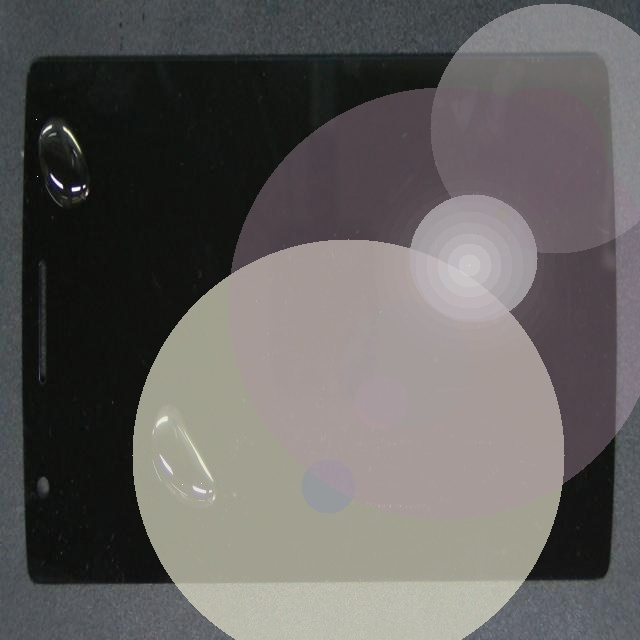oil: (103, 214, 267, 619), (16, 32, 55, 205)
